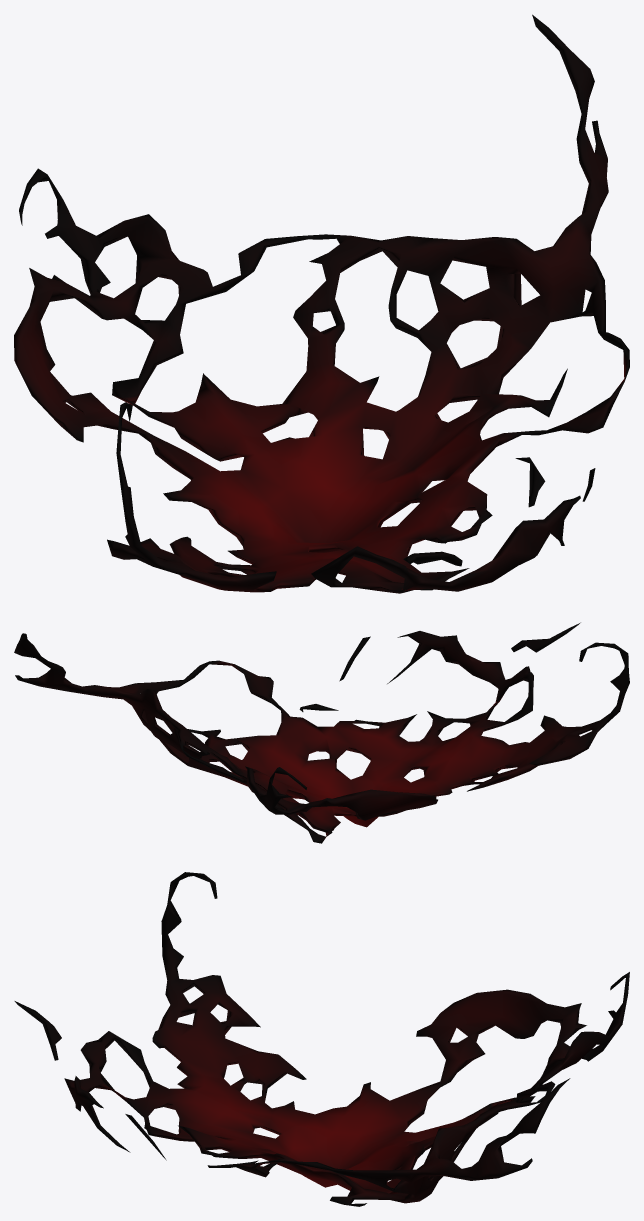
Rendered from SM_VFX_Splash.fbx.
3 renders of one model, top to bottom at view 1: azimuth 30°, elevation 25°; view 2: azimuth 150°, elevation 25°; view 3: azimuth 270°, elevation 25°, orthographic. The views are drawn at different scales.
Visible parts, largest first — view 1: SM_VFX_Splash; view 2: SM_VFX_Splash; view 3: SM_VFX_Splash.
Boxes of the visible parts, box(x1,y1,x2,y2) form: SM_VFX_Splash: box(14, 14, 629, 593); SM_VFX_Splash: box(14, 622, 629, 843); SM_VFX_Splash: box(14, 872, 629, 1206).
Bounding box in the file's own units: 197 × 85.62 × 199.
